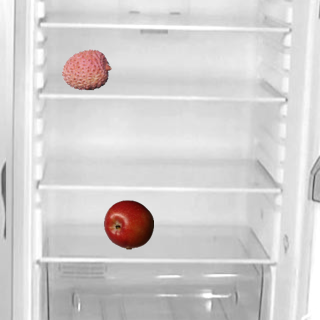Apple Braeburn: (103, 199, 153, 249)
Lychee: (61, 44, 111, 94)
